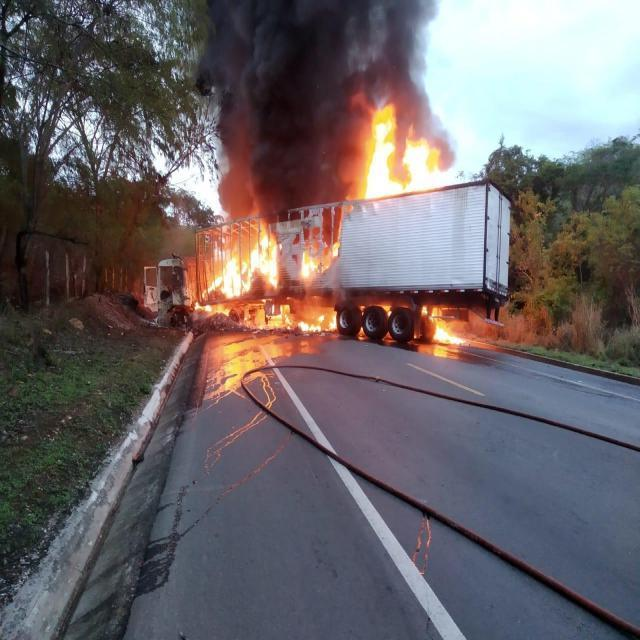Fire: (184, 210, 348, 335), (362, 95, 446, 193), (422, 300, 466, 355)
Smoke: (202, 0, 352, 202), (349, 0, 444, 92)
